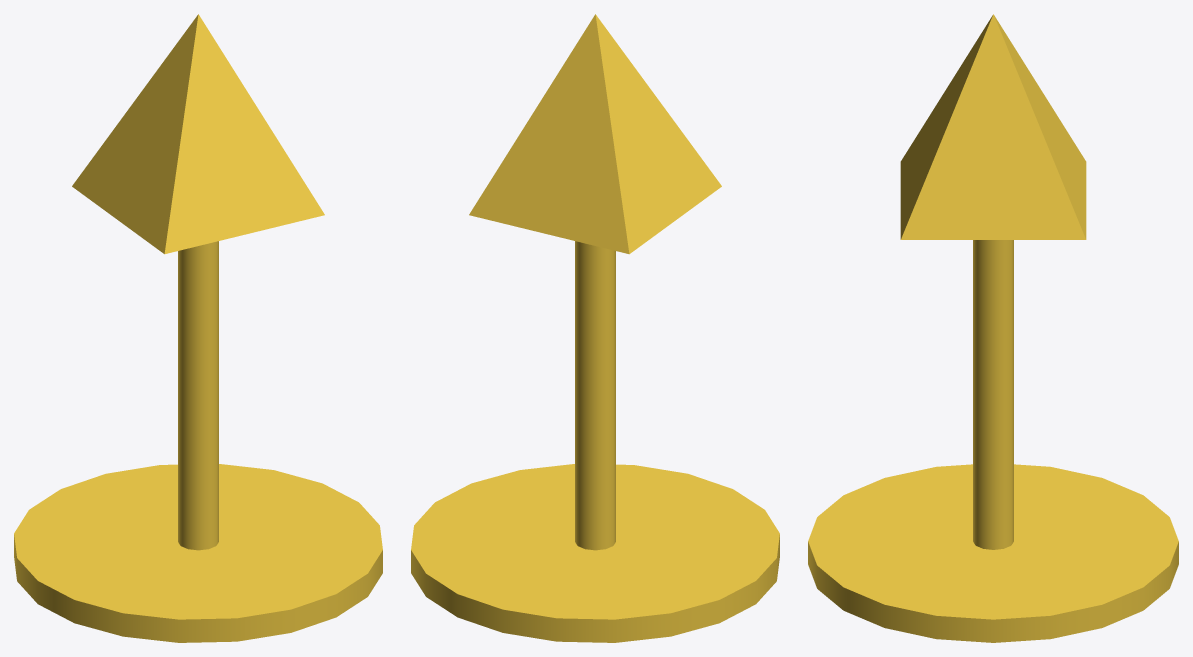
File: marker_story.glb
3 views of the same model, side by side, from view 1: azimuth 30°, elevation 25°; view 2: azimuth 150°, elevation 25°; view 3: azimuth 270°, elevation 25° (orthographic).
Visible parts, largest first — view 1: EDITOR_ONLY_colored_base.002, EDITOR_ONLY_marker_tip.002, EDITOR_ONLY_stem.002; view 2: EDITOR_ONLY_colored_base.002, EDITOR_ONLY_marker_tip.002, EDITOR_ONLY_stem.002; view 3: EDITOR_ONLY_colored_base.002, EDITOR_ONLY_marker_tip.002, EDITOR_ONLY_stem.002.
Part boxes in pixels (x1,y1,x2,y2): EDITOR_ONLY_colored_base.002: (14, 464, 382, 642); EDITOR_ONLY_marker_tip.002: (72, 14, 324, 254); EDITOR_ONLY_stem.002: (178, 241, 218, 550); EDITOR_ONLY_colored_base.002: (411, 464, 779, 642); EDITOR_ONLY_marker_tip.002: (469, 14, 721, 254); EDITOR_ONLY_stem.002: (575, 241, 615, 550); EDITOR_ONLY_colored_base.002: (808, 464, 1178, 642); EDITOR_ONLY_marker_tip.002: (900, 14, 1086, 239); EDITOR_ONLY_stem.002: (973, 240, 1013, 549).
Size of the model in its own units: 0.72 by 1.18 by 0.72.
